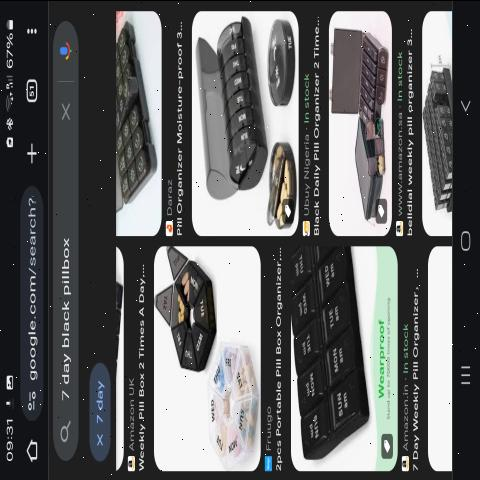PillBox: (292, 244, 371, 466), (158, 235, 214, 378)
